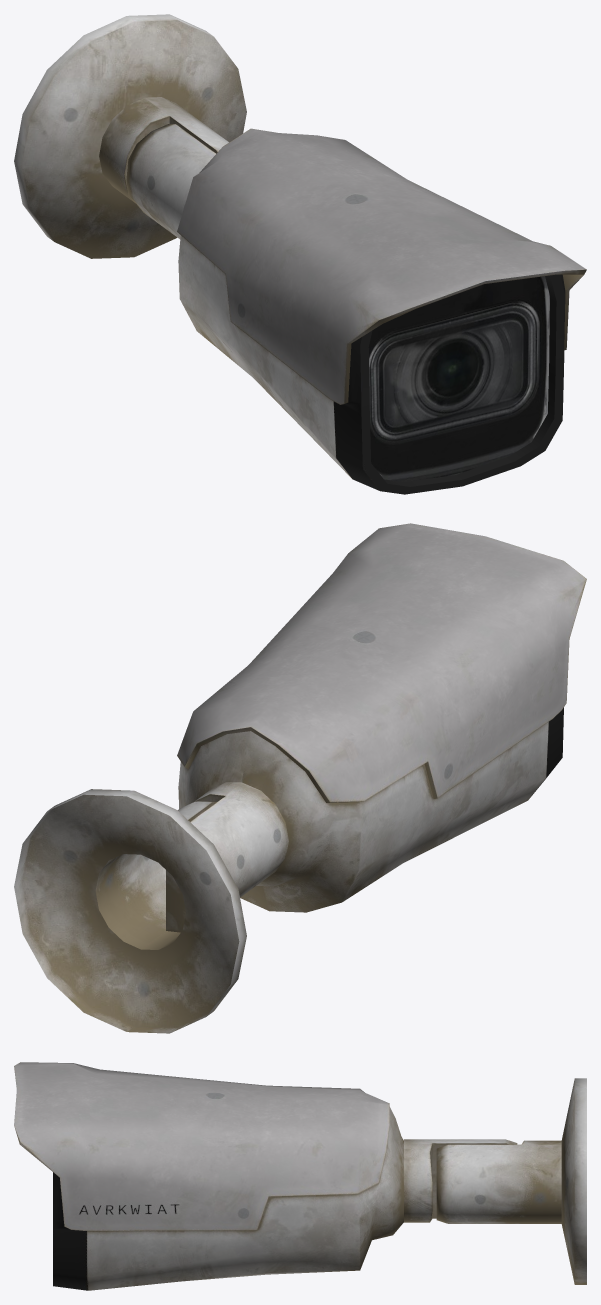
File: cameraSecurity.fbx
3 renders of one model, top to bottom at view 1: azimuth 30°, elevation 25°; view 2: azimuth 150°, elevation 25°; view 3: azimuth 270°, elevation 25°, orthographic. The views are drawn at different scales.
Visible parts, largest first — view 1: camera, handler; view 2: camera, handler; view 3: camera, handler.
Boxes of the visible parts, left/top/right/bottom form: camera: left=126, top=124, right=586, bottom=494; handler: left=14, top=14, right=246, bottom=258; camera: left=177, top=523, right=586, bottom=912; handler: left=14, top=789, right=246, bottom=1033; camera: left=14, top=1062, right=517, bottom=1290; handler: left=436, top=1078, right=586, bottom=1284.
Size of the model in its own units: 21.94 by 21.55 by 59.74.
1 material, 1 textured.
